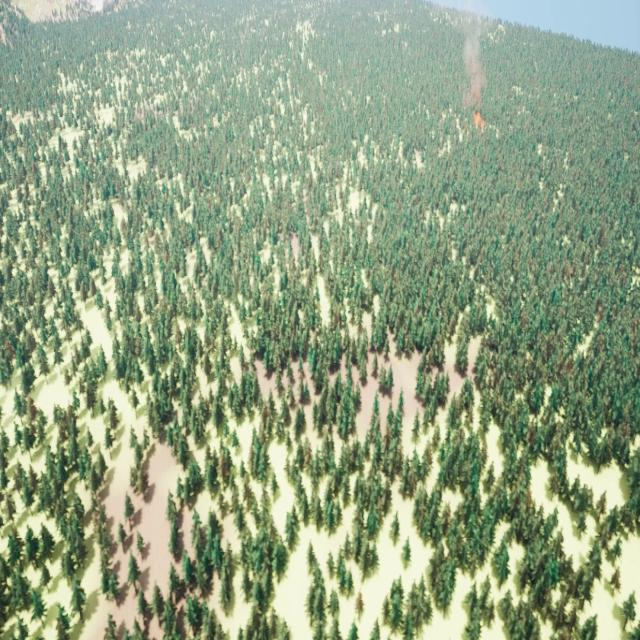fire: (472, 106, 487, 134)
smoke: (460, 12, 489, 103)
